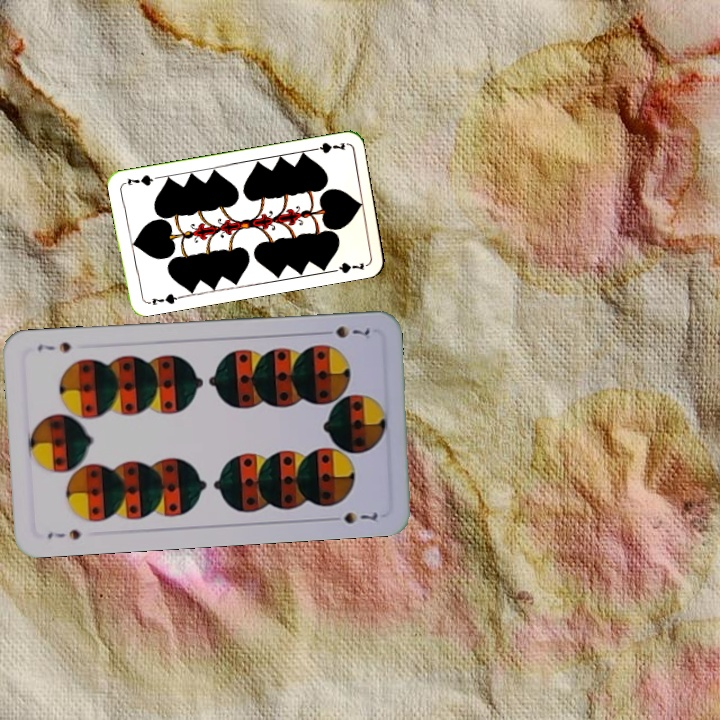G7: (307, 138, 348, 156), (142, 290, 183, 308)
S7: (316, 322, 373, 341), (43, 525, 85, 542)
